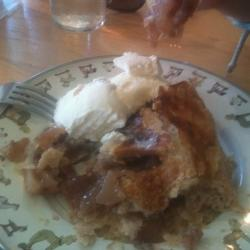apple_pie: (43, 99, 238, 235)
icecream: (56, 54, 169, 141)
